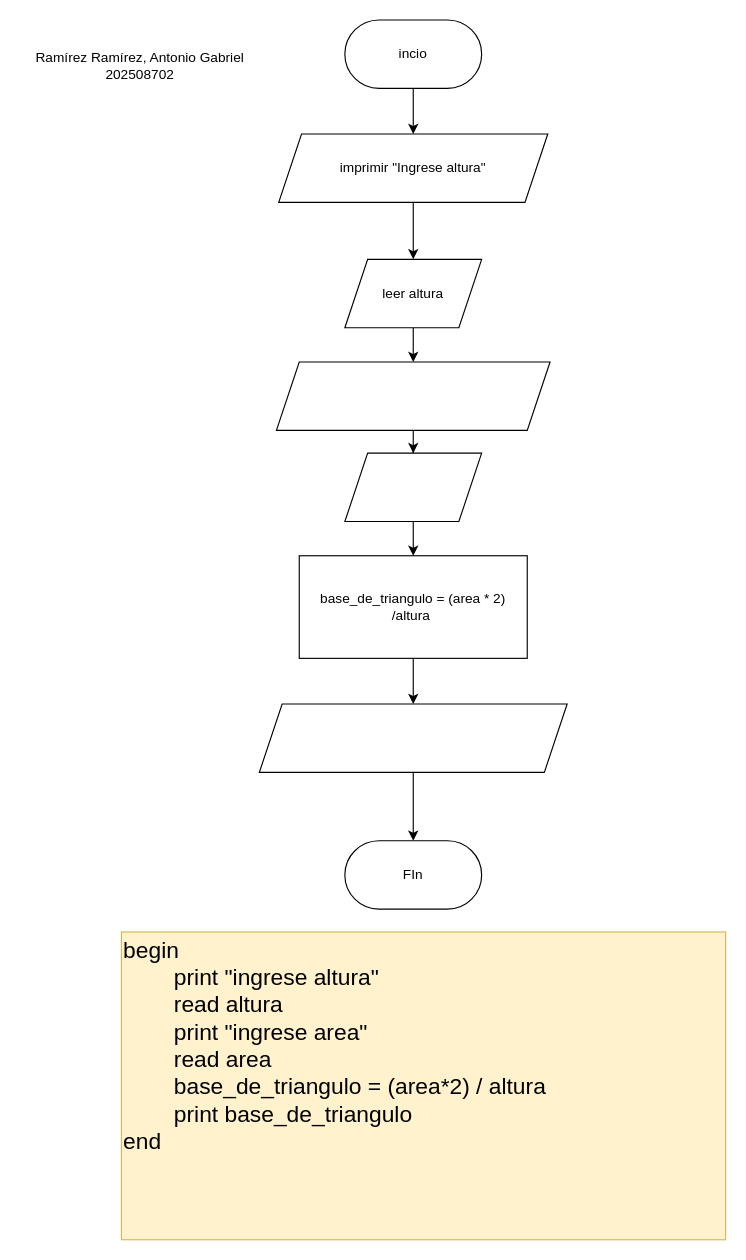
This 746x1260 diagram has some shape labels left out. Here are the shapes that lost their labels. From the top down, the centre of each, then its label:
the point at 412,395: Imprimir "Ingrese area"
the point at 413,487: leer area
the point at 412,737: Imprimir base_de_triangulo
